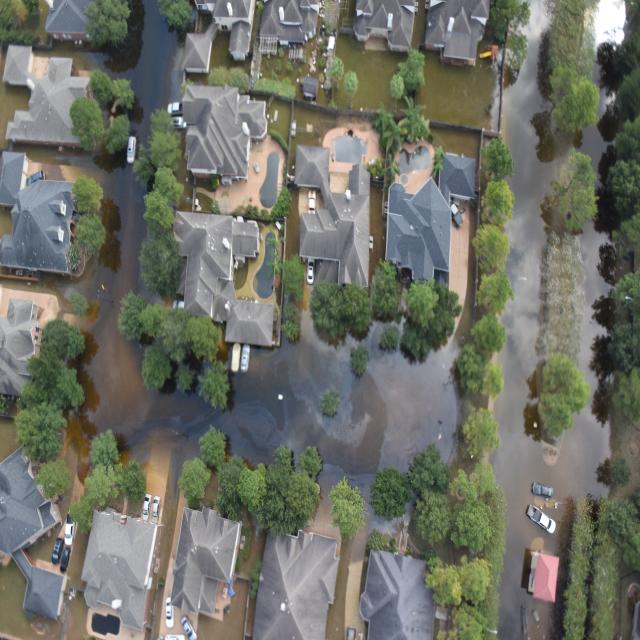fire: (490, 0, 612, 639), (219, 310, 458, 478), (28, 147, 160, 444), (89, 0, 181, 143), (574, 221, 611, 393), (130, 392, 200, 450)
